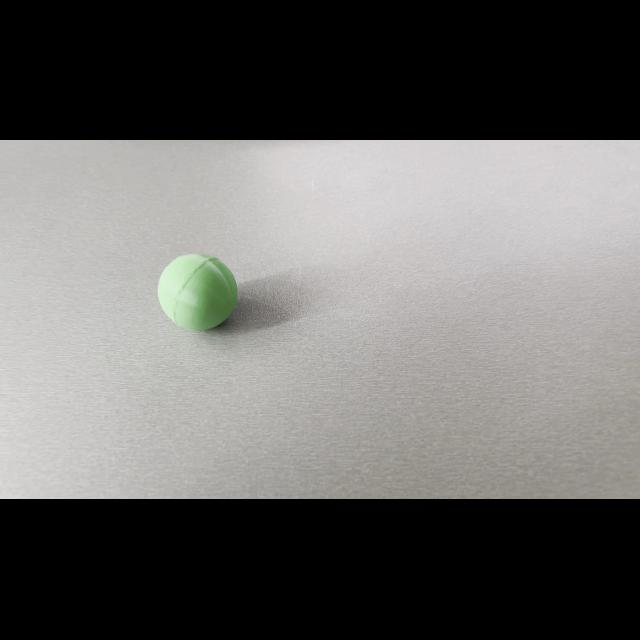objects: (154, 245, 244, 335)
